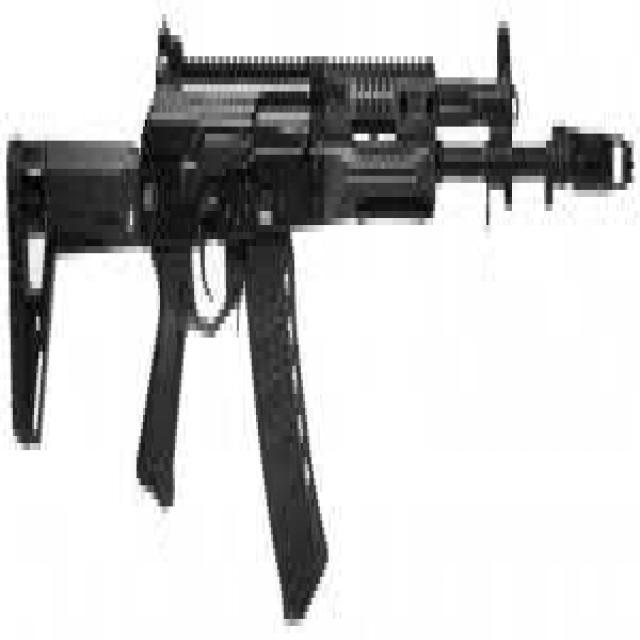weapon: (4, 5, 635, 640)
